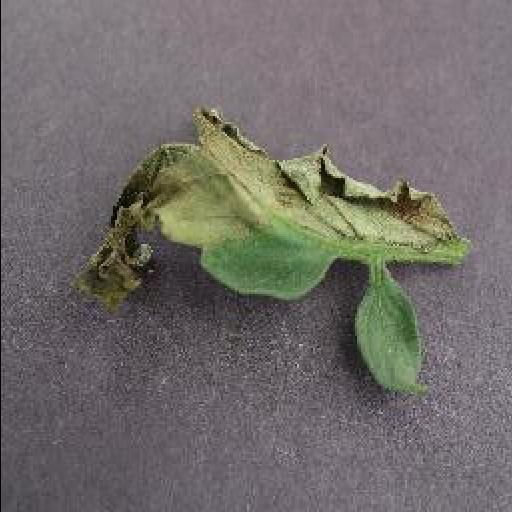disease_tomato: (70, 106, 462, 304)
